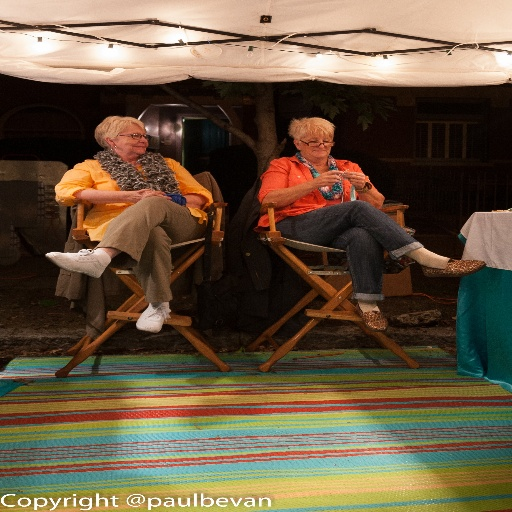hand: (301, 165, 342, 185), (340, 170, 368, 191), (122, 186, 151, 204), (137, 187, 169, 200)
